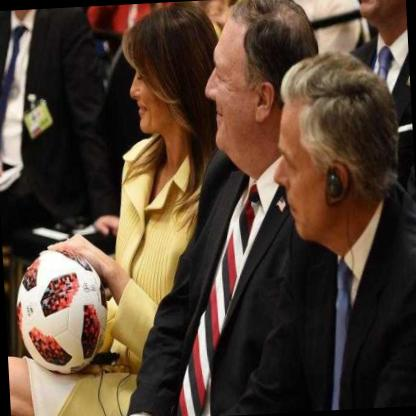ball: (13, 246, 111, 378)
